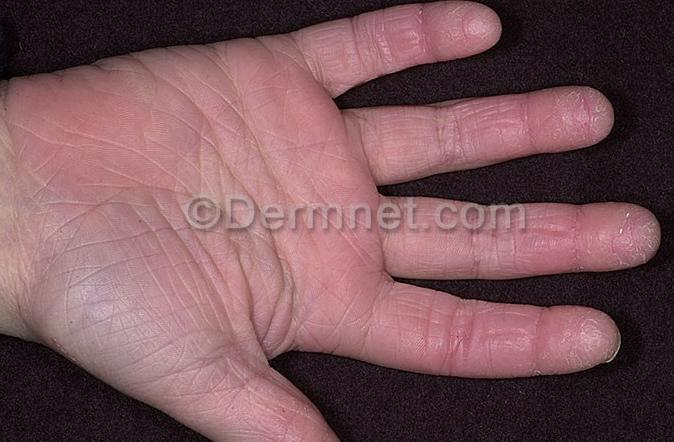eritema 1: (8, 0, 660, 442)
liquenificacion 1: (0, 0, 661, 442)
xerosis 1: (552, 82, 618, 149), (436, 1, 502, 58), (605, 204, 659, 269), (568, 309, 622, 373)
